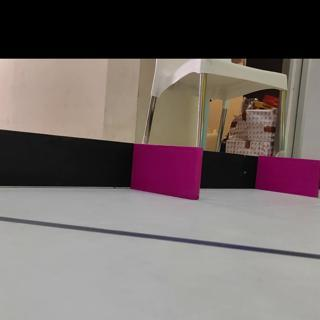xparking: (135, 149, 200, 195), (261, 162, 318, 192)
